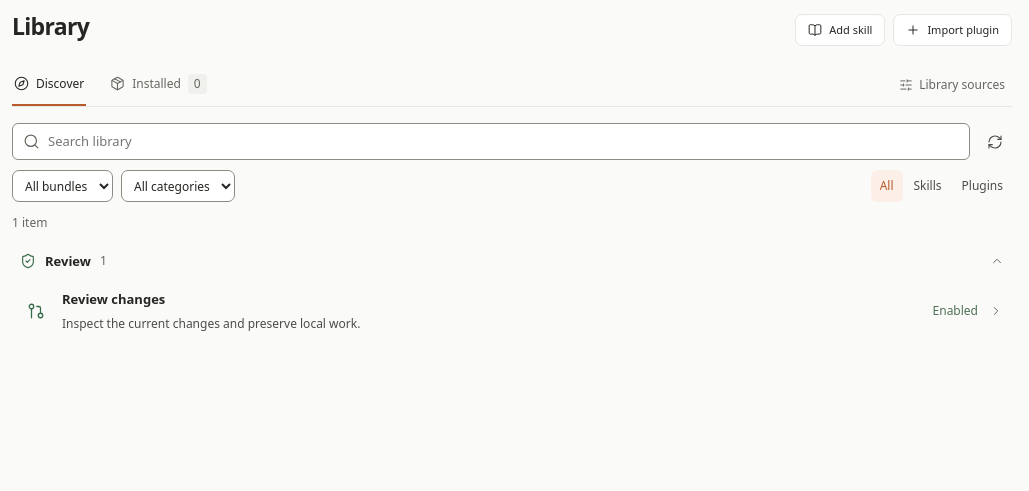
Test: Library current loading and error copy › distinguishes a successful search with no matches and clears only local filters
This screenshot has width=1029, height=491.
Expected: the heading "Review changes" is shown, [62, 290, 165, 310]
Type "unmatched" into the field labelled "Search library". click: (504, 142)
box: [48, 132, 959, 151]
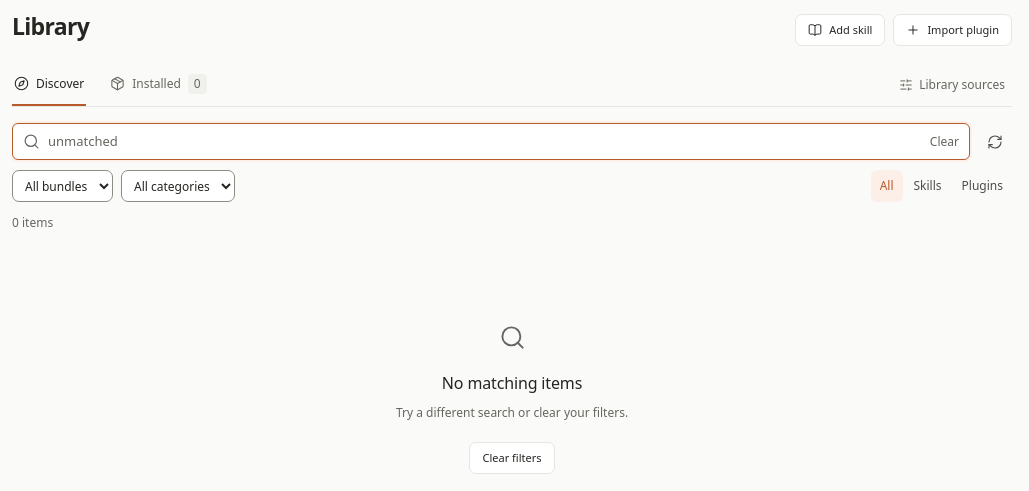
Result: the heading "No matching items" is shown at [442, 371, 582, 395]
Click the button "Clear filters". click: (512, 458)
box: [470, 442, 554, 474]
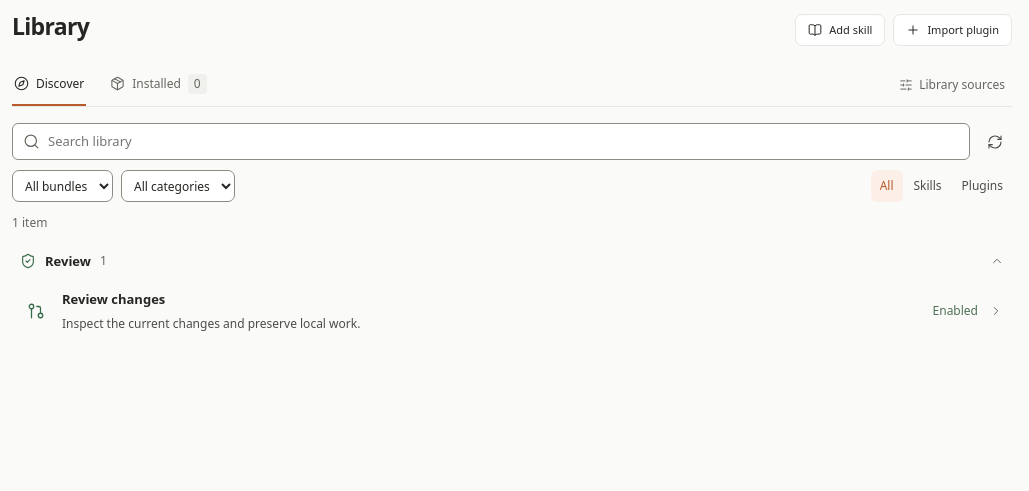
Result: the heading "Review changes" is shown at [62, 290, 165, 310]
